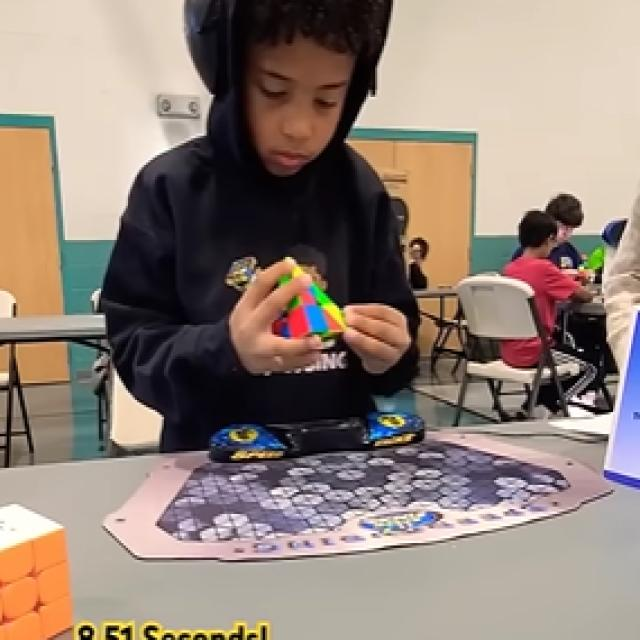Cubo-Resuelto: (0, 504, 72, 638)
Pyraminx: (274, 281, 344, 342), (278, 264, 303, 284)
